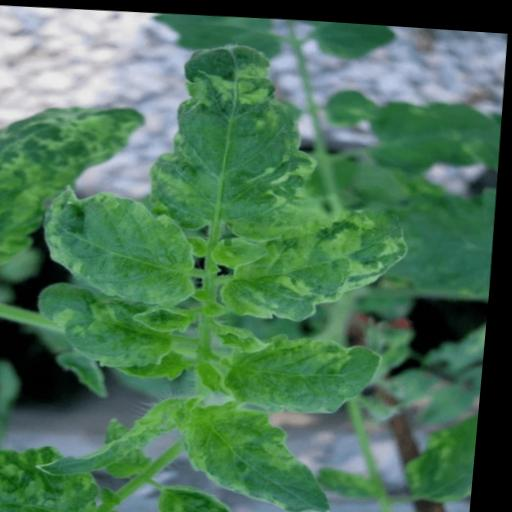Mosaic Virus: (142, 23, 336, 245), (0, 96, 156, 287), (217, 199, 417, 324), (39, 178, 208, 311), (179, 391, 351, 512), (28, 275, 187, 372), (225, 324, 394, 415), (0, 434, 114, 512)
